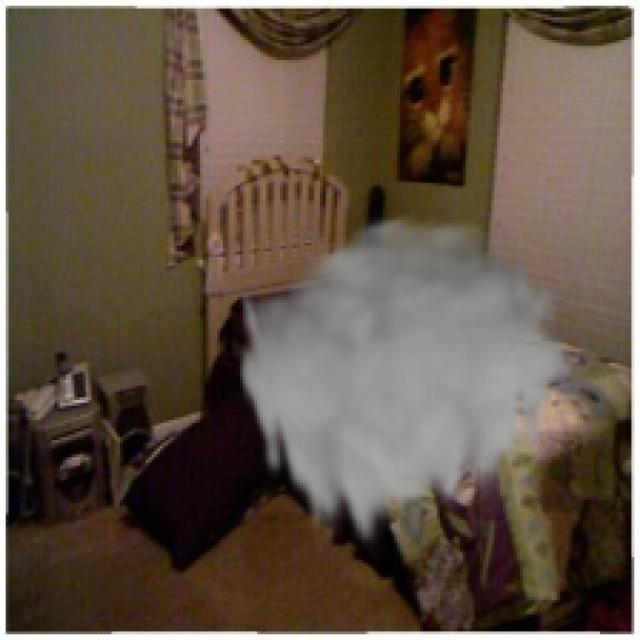smoke: (234, 209, 580, 557)
